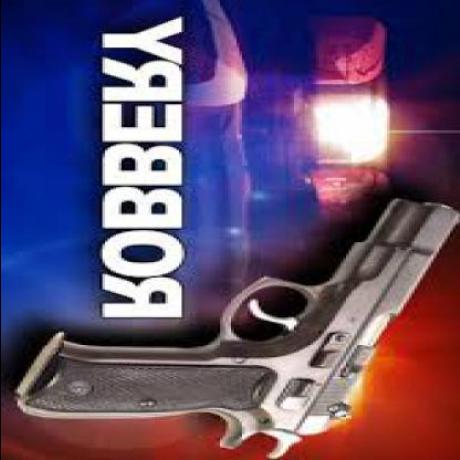weapon: (8, 188, 460, 460)
